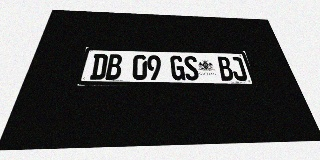0: (132, 55, 147, 80)
9: (147, 55, 161, 80)
B: (105, 54, 123, 80), (216, 57, 235, 81)
D: (89, 54, 108, 80)
G: (170, 55, 186, 80)
J: (229, 57, 248, 81)
S: (183, 56, 200, 80)
